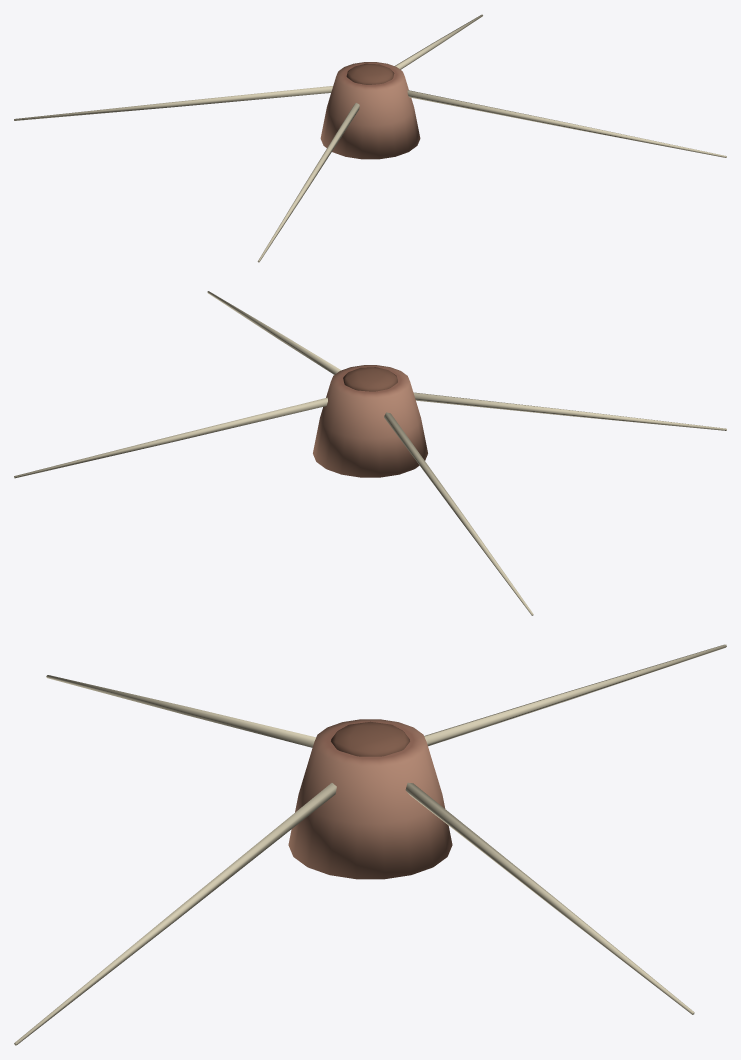
File: Coronacollina.fbx
3 renders of one model, top to bottom at view 1: azimuth 30°, elevation 25°; view 2: azimuth 150°, elevation 25°; view 3: azimuth 270°, elevation 25°, orthographic. The views are drawn at different scales.
Parts seen in each view (by area): view 1: Coronacollina; view 2: Coronacollina; view 3: Coronacollina.
Part boxes in pixels (x1,y1,x2,y2): Coronacollina: (14,14,726,262); Coronacollina: (14,291,726,615); Coronacollina: (14,644,726,1045).
Size of the model in its own units: 1.84 by 0.2463 by 1.39.
